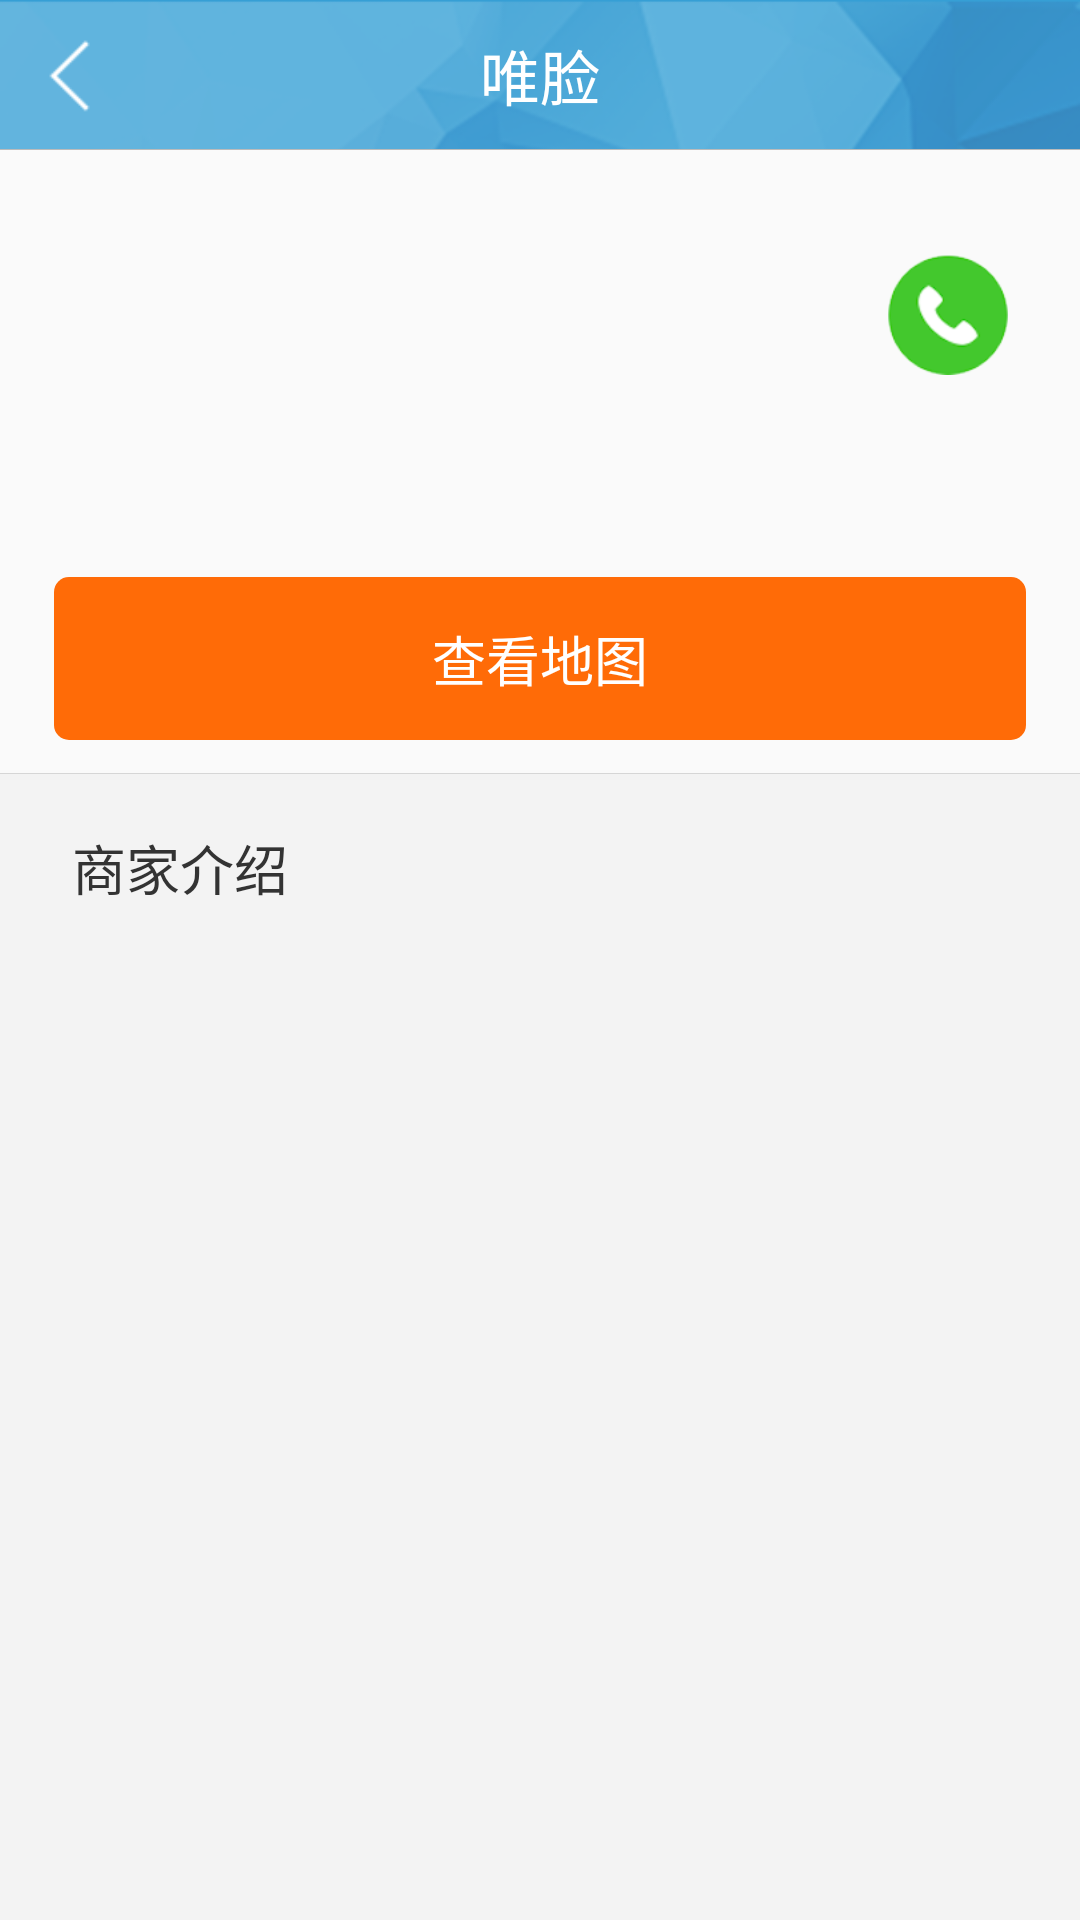

Screen size 1080×1920. Icon name, then its center in pixels as [x,y]:
back: [69,76]
call: [948,315]
